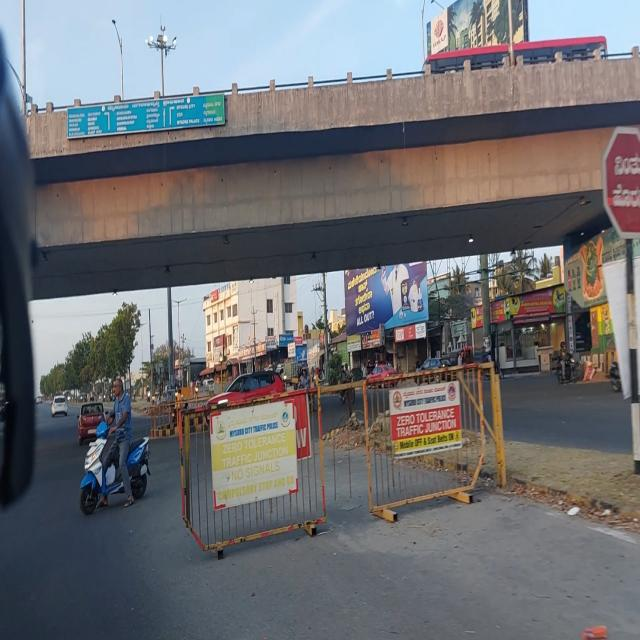bien_cam: (602, 123, 640, 240)
